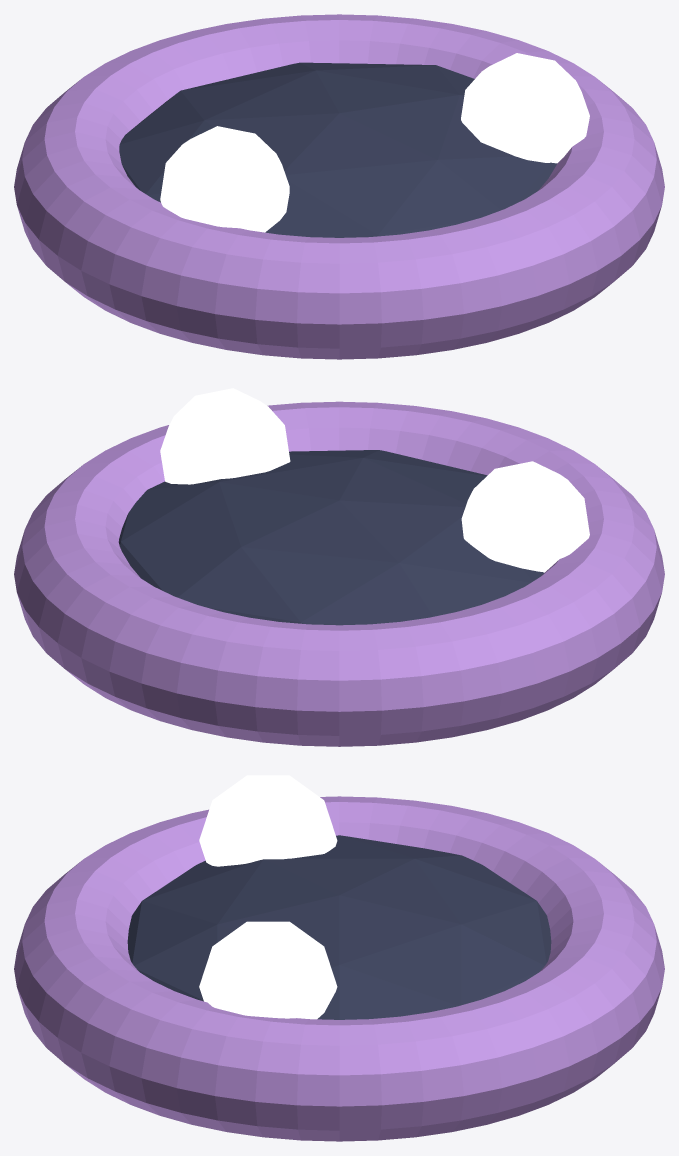
The model's file is SM_Seraphine_Stage.fbx.
The picture shows the model from 3 angles, top to bottom: view 1: azimuth 30°, elevation 25°; view 2: azimuth 150°, elevation 25°; view 3: azimuth 270°, elevation 25°; orthographic projection.
Parts seen in each view (by area): view 1: SM_Seraphine_Stage; view 2: SM_Seraphine_Stage; view 3: SM_Seraphine_Stage.
Boxes of the visible parts, left/top/right/bottom form: SM_Seraphine_Stage: left=14, top=14, right=664, bottom=359; SM_Seraphine_Stage: left=14, top=388, right=664, bottom=746; SM_Seraphine_Stage: left=14, top=775, right=664, bottom=1141.
Size of the model in its own units: 64 by 64 by 20.8.
